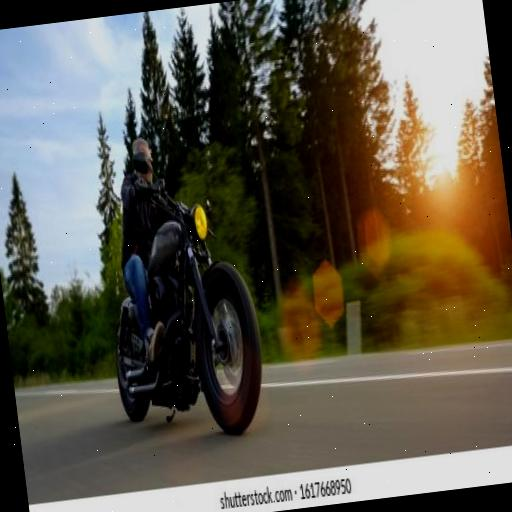no helmet: (82, 114, 260, 485)
